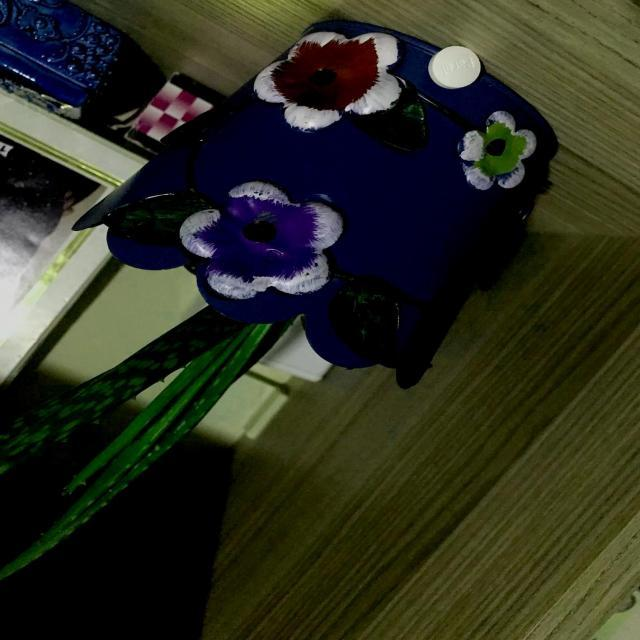pill: (423, 38, 505, 96)
